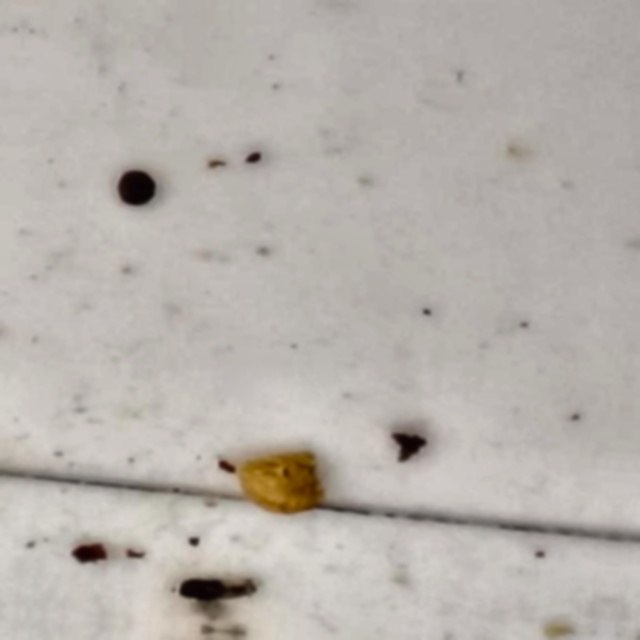varroa: (112, 169, 160, 213)
